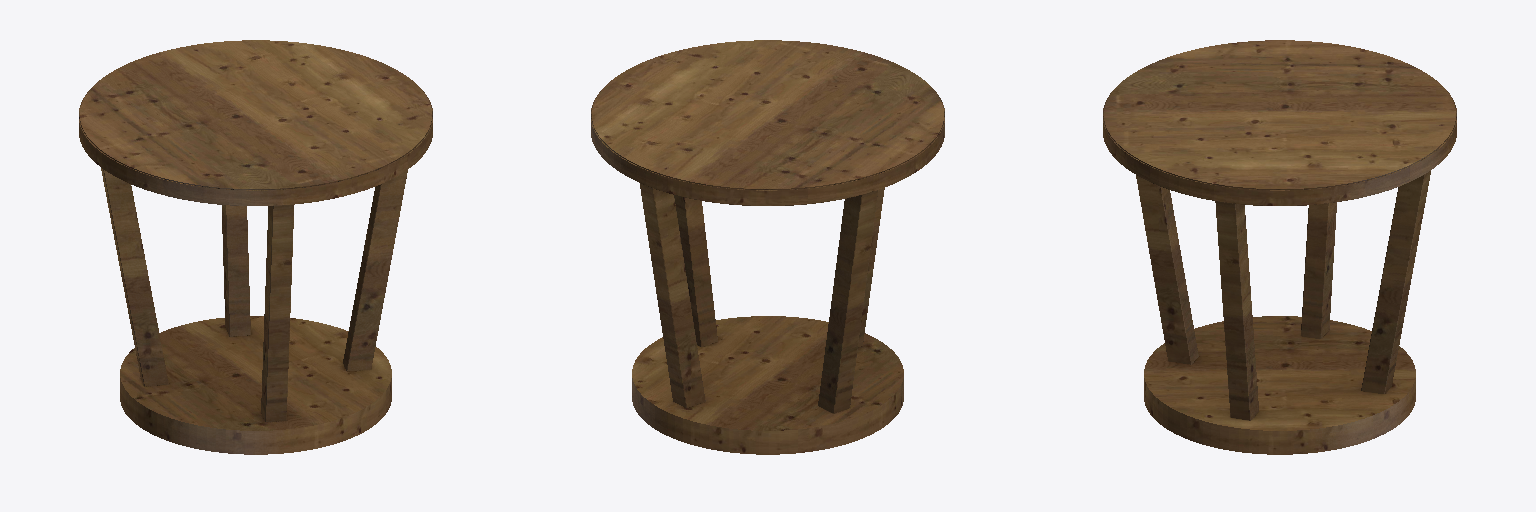
3 renders of one model, left to right at view 1: azimuth 30°, elevation 25°; view 2: azimuth 150°, elevation 25°; view 3: azimuth 270°, elevation 25°, orthographic.
Visible parts, largest first — view 1: solid; view 2: solid; view 3: solid.
Boxes of the visible parts, <box> form: solid: <box>79,40,432,454</box>; solid: <box>591,40,944,454</box>; solid: <box>1103,40,1456,454</box>.
Size of the model in its own units: 1.45 by 1.27 by 1.45.
Materials: 1 (1 with a texture image).